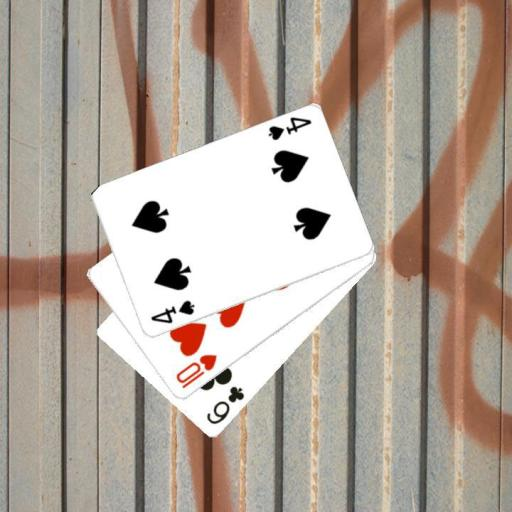10H: (173, 352, 218, 391)
4S: (147, 297, 196, 326), (264, 114, 313, 142)
6C: (203, 383, 246, 427)
